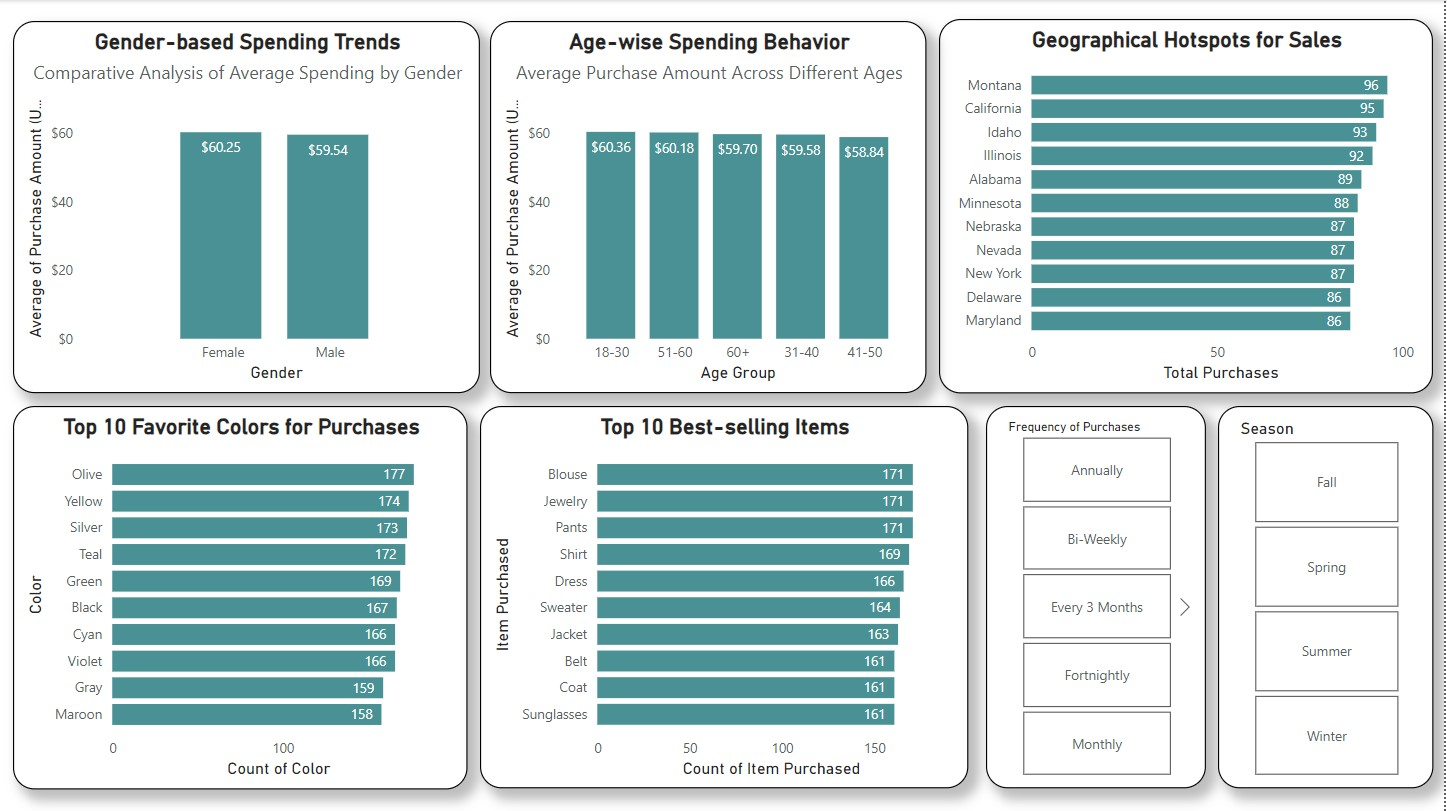

What the dashboard file says about the page in this screenshot:
{"tool":"powerbi","page":{"name":"Dashboard2","canvas":[1280,720],"ordinal":1},"visuals":[{"type":"clusteredBarChart","title":"Geographical Hotspots for Sales","fields":{"Category":["shopping_trends (1).Location"],"Y":["shopping_trends (1).Total Purchases"]},"box":[832.6,16.8,438,331.6],"z":0},{"type":"columnChart","title":"Gender-based Spending Trends","fields":{"Y":["Avg(shopping_trends (1).Purchase Amount (USD))"],"Category":["shopping_trends (1).Gender"]},"box":[11.7,18.5,414.3,329.7],"z":1000},{"type":"columnChart","title":"Age-wise Spending Behavior","fields":{"Category":["shopping_trends (1).Age Group"],"Y":["Avg(shopping_trends (1).Purchase Amount (USD))"]},"box":[434.8,18.5,387.1,329.7],"z":2000},{"type":"clusteredBarChart","title":"Top 10 Favorite Colors for Purchases","fields":{"Category":["shopping_trends (1).Color"],"Y":["CountNonNull(shopping_trends (1).Color)"]},"box":[11.5,360,403.4,339.6],"z":3000},{"type":"clusteredBarChart","title":"Top 10 Best-selling Items","fields":{"Category":["shopping_trends (1).Item Purchased"],"Y":["CountNonNull(shopping_trends (1).Item Purchased)"]},"box":[426,359.9,432.8,339.5],"z":4000},{"type":"slicer","fields":{"Values":["shopping_trends (1).Frequency of Purchases"]},"box":[874.4,359.9,194.5,339.5],"z":5000},{"type":"slicer","fields":{"Values":["shopping_trends (1).Season"]},"box":[1079.6,359.9,190.6,339.5],"z":6000}]}

Visuals, with their boxes in screenshot pixels (x1, y1, x2, y2), scaled from the page's 1280x720 canvas onto the 1447x811 screenshot:
"Geographical Hotspots for Sales" clusteredBarChart: [x1=941, y1=19, x2=1436, y2=392]
"Gender-based Spending Trends" columnChart: [x1=13, y1=21, x2=482, y2=392]
"Age-wise Spending Behavior" columnChart: [x1=492, y1=21, x2=929, y2=392]
"Top 10 Favorite Colors for Purchases" clusteredBarChart: [x1=13, y1=406, x2=469, y2=788]
"Top 10 Best-selling Items" clusteredBarChart: [x1=482, y1=405, x2=971, y2=788]
slicer - shopping_trends (1).Frequency of Purchases: [x1=988, y1=405, x2=1208, y2=788]
slicer - shopping_trends (1).Season: [x1=1220, y1=405, x2=1436, y2=788]
